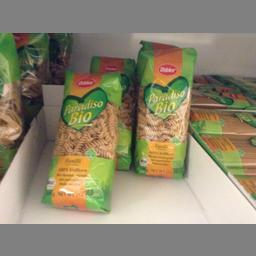pasta: (39, 68, 122, 212), (132, 39, 196, 178)
